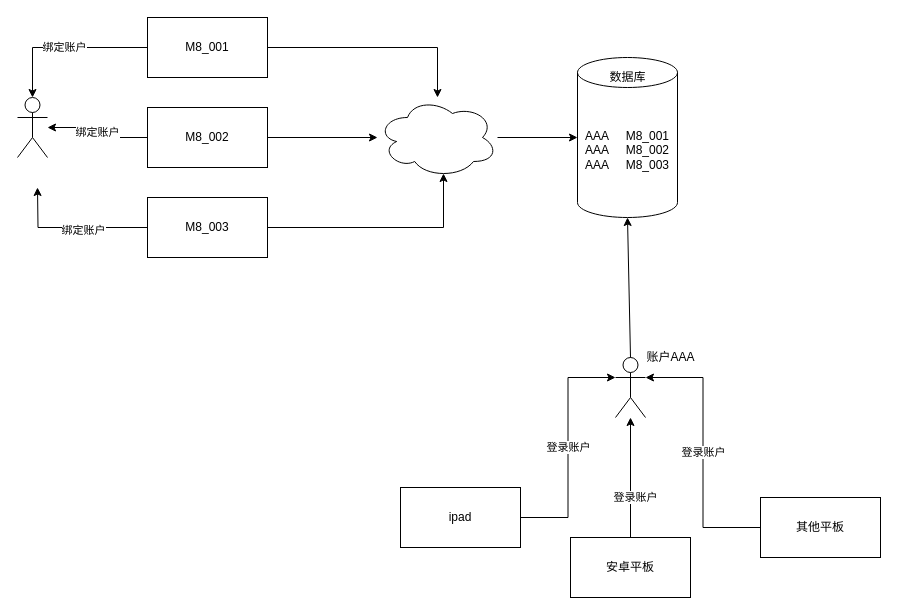
The diagram is 898 pixels wide and 615 high, and some of its shapes have lost their labels. The shapes that lost their labels are listed below. From the top down, each one's centre as x and y in pixels, then its label:
[32,127]: AAA
[437,137]: 服务器
